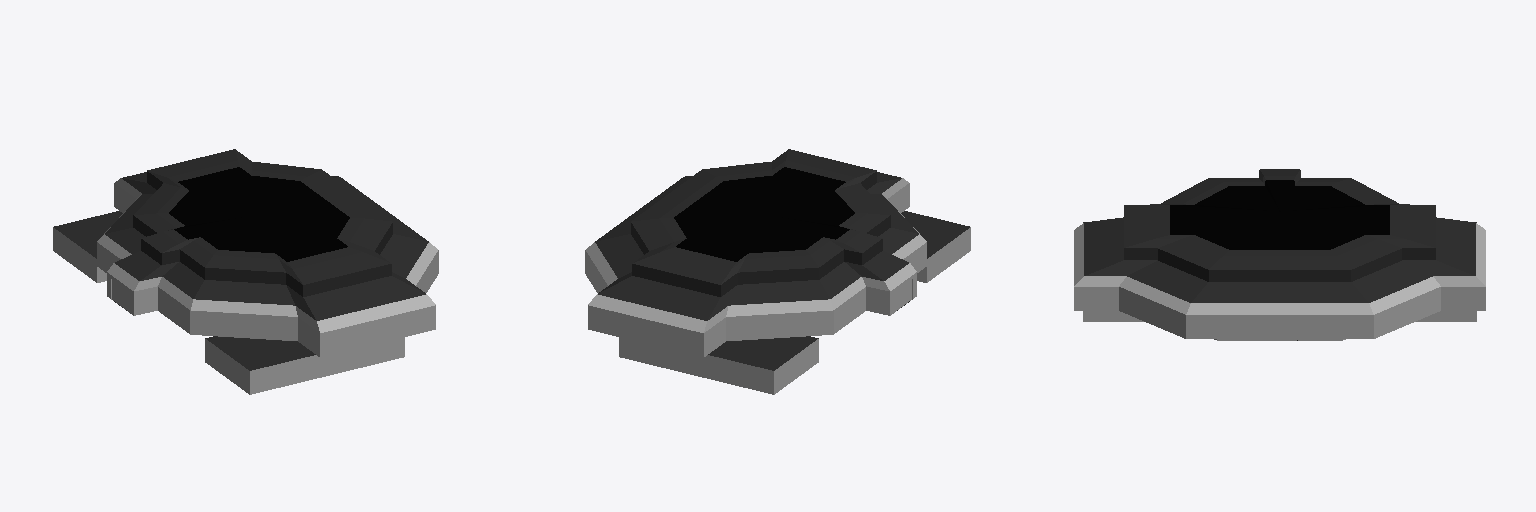
The model's file is Building6.obj.
3 views of the same model, side by side, from view 1: azimuth 30°, elevation 25°; view 2: azimuth 150°, elevation 25°; view 3: azimuth 270°, elevation 25° (orthographic).
Visible parts, largest first — view 1: Roof_Roof_Roof.002, Roof_Roof_Skylight.002, TopLeftWing_LeftWing_Walls.008, TopLeftWing_LeftWing_Roof.008, BottomLeftWing_LeftWing.001_Walls.003, TopFloorFront_TopFloor_Walls.005, TopFloorFront_TopFloor_Roof.005, BottomLeftWing_LeftWing.001_BottomRoof.003, BottomRightWing_RightWing.001_BottomRoof, BottomRightWing_RightWing.001_Walls, TopRightWing_RightWing_Roof.006, TopFloorBack_TopFloor.001_Roof.007 (+1 smaller); view 2: Roof_Roof_Roof.002, Roof_Roof_Skylight.002, TopRightWing_RightWing_Walls.006, TopRightWing_RightWing_Roof.006, BottomRightWing_RightWing.001_Walls, TopFloorFront_TopFloor_Walls.005, TopFloorFront_TopFloor_Roof.005, BottomRightWing_RightWing.001_BottomRoof, BottomLeftWing_LeftWing.001_BottomRoof.003, BottomLeftWing_LeftWing.001_Walls.003, TopLeftWing_LeftWing_Roof.008, TopFloorBack_TopFloor.001_Roof.007 (+1 smaller); view 3: Roof_Roof_Roof.002, Roof_Roof_Skylight.002, TopFloorBack_TopFloor.001_Walls.007, TopRightWing_RightWing_Walls.006, TopLeftWing_LeftWing_Walls.008, TopRightWing_RightWing_Roof.006, TopLeftWing_LeftWing_Roof.008, TopFloorBack_TopFloor.001_Roof.007, BottomRightWing_RightWing.001_Walls, BottomLeftWing_LeftWing.001_Walls.003.
Boxes of the visible parts, box(x1,y1,x2,y2) form: Roof_Roof_Roof.002: box(133, 149, 392, 296); Roof_Roof_Skylight.002: box(169, 167, 349, 261); TopLeftWing_LeftWing_Walls.008: box(190, 242, 438, 357); TopLeftWing_LeftWing_Roof.008: box(194, 234, 428, 320); BottomLeftWing_LeftWing.001_Walls.003: box(205, 337, 404, 394); TopFloorFront_TopFloor_Walls.005: box(97, 234, 192, 333); TopFloorFront_TopFloor_Roof.005: box(105, 228, 203, 298); BottomLeftWing_LeftWing.001_BottomRoof.003: box(205, 336, 315, 370); BottomRightWing_RightWing.001_BottomRoof: box(54, 211, 122, 258); BottomRightWing_RightWing.001_Walls: box(53, 227, 106, 282); TopRightWing_RightWing_Roof.006: box(105, 172, 338, 233); TopFloorBack_TopFloor.001_Roof.007: box(334, 177, 428, 241); Roof_Roof_Roof.002: box(631, 149, 890, 296); Roof_Roof_Skylight.002: box(674, 167, 854, 261); TopRightWing_RightWing_Walls.006: box(585, 242, 833, 357); TopRightWing_RightWing_Roof.006: box(595, 234, 829, 320); BottomRightWing_RightWing.001_Walls: box(619, 337, 818, 394); TopFloorFront_TopFloor_Walls.005: box(831, 234, 926, 333); TopFloorFront_TopFloor_Roof.005: box(820, 228, 918, 298); BottomRightWing_RightWing.001_BottomRoof: box(708, 336, 818, 370); BottomLeftWing_LeftWing.001_BottomRoof.003: box(901, 211, 969, 258); BottomLeftWing_LeftWing.001_Walls.003: box(917, 227, 970, 282); TopLeftWing_LeftWing_Roof.008: box(685, 172, 918, 233); TopFloorBack_TopFloor.001_Roof.007: box(595, 177, 689, 241); Roof_Roof_Roof.002: box(1124, 169, 1435, 281); Roof_Roof_Skylight.002: box(1170, 180, 1389, 249); TopFloorBack_TopFloor.001_Walls.007: box(1186, 303, 1373, 338); TopRightWing_RightWing_Walls.006: box(1369, 223, 1485, 338); TopLeftWing_LeftWing_Walls.008: box(1074, 223, 1190, 338); TopRightWing_RightWing_Roof.006: box(1352, 217, 1475, 302); TopLeftWing_LeftWing_Roof.008: box(1084, 217, 1207, 302); TopFloorBack_TopFloor.001_Roof.007: box(1192, 282, 1367, 302); BottomRightWing_RightWing.001_Walls: box(1416, 311, 1476, 321); BottomLeftWing_LeftWing.001_Walls.003: box(1083, 311, 1143, 321).
Size of the model in its own units: 35 by 10.2 by 46.